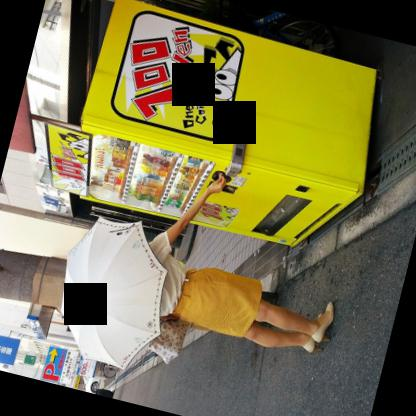handbag: (148, 313, 190, 364)
